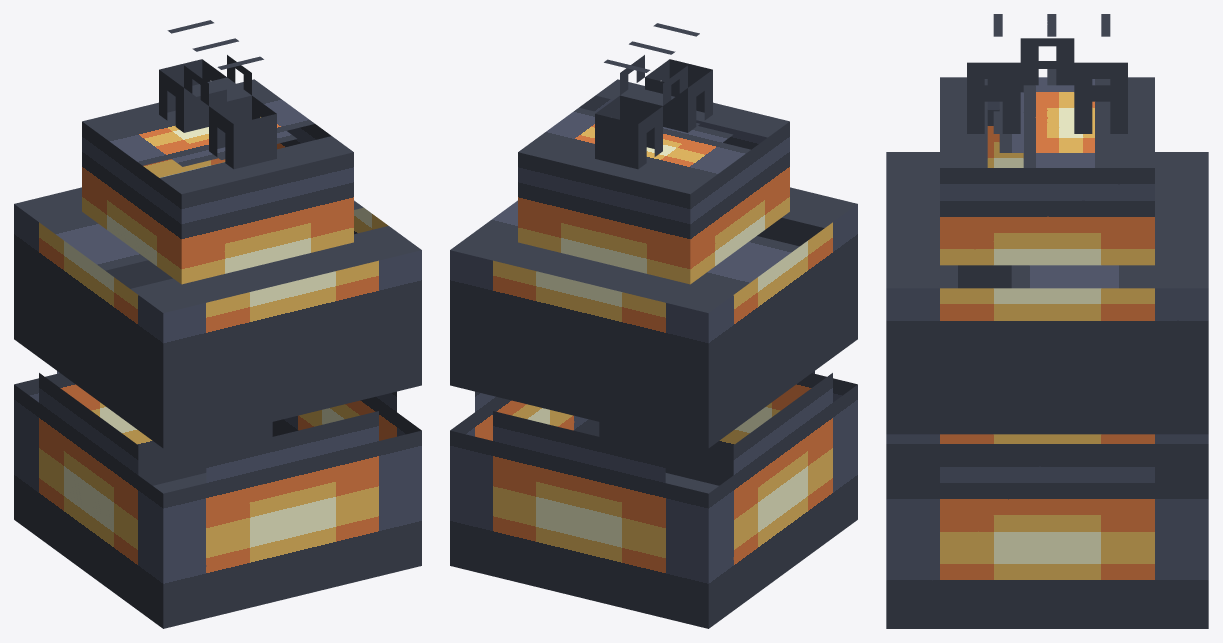
Rendered from villageLantern.fbx.
The picture shows the model from 3 angles, left to right: view 1: azimuth 30°, elevation 25°; view 2: azimuth 150°, elevation 25°; view 3: azimuth 270°, elevation 25°; orthographic projection. The views are drawn at different scales.
Parts seen in each view (by area): view 1: Lantern-Body, Lantern-Mount, HL, HR, HM; view 2: Lantern-Body, Lantern-Mount, HR, HL, HM; view 3: Lantern-Body, Lantern-Mount, HL, HR, HM.
Part boxes in pixels (x1,y1,x2,y2): Lantern-Body: (14,187,421,628); Lantern-Mount: (82,79,353,284); HL: (209,56,276,169); HR: (159,20,226,132); HM: (184,38,251,105); Lantern-Body: (450,187,857,628); Lantern-Mount: (518,79,789,284); HR: (595,59,662,169); HL: (645,23,712,132); HM: (620,41,687,105); Lantern-Body: (886,152,1208,628); Lantern-Mount: (940,77,1154,265); HL: (967,14,1020,133); HR: (1074,14,1127,133); HM: (1020,14,1074,85).
Bounding box in the file's own units: 37.5 × 68.75 × 37.5.
1 material, 1 textured.
